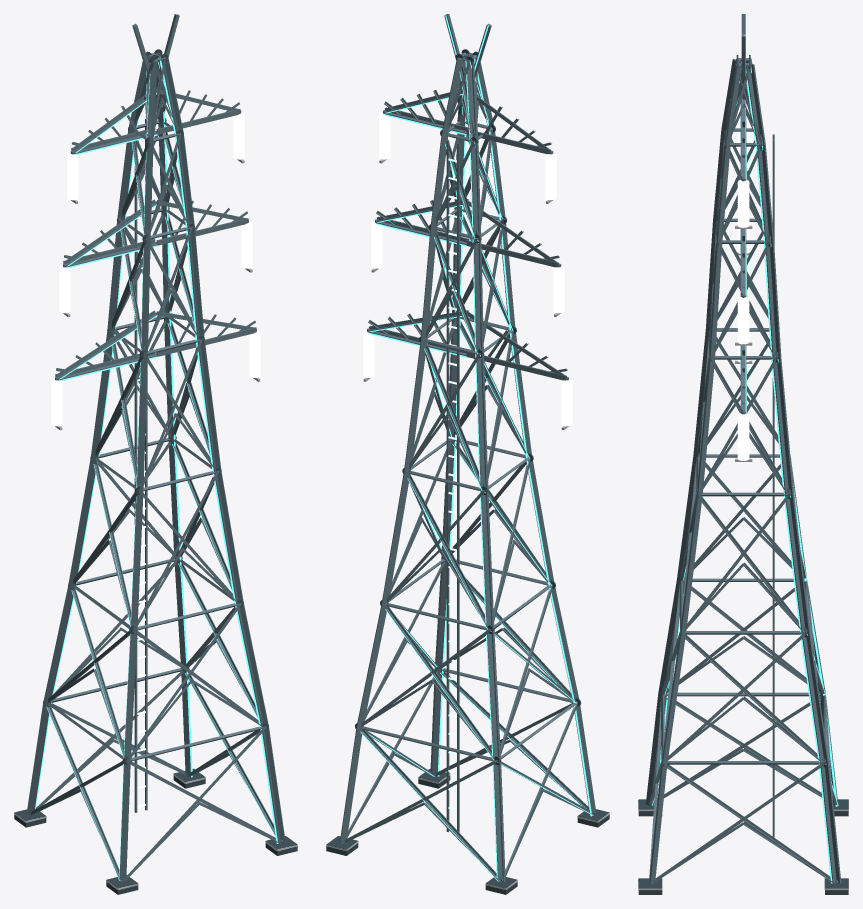
Rendered from transmission_line_segment.glb.
3 renders of one model, left to right at view 1: azimuth 30°, elevation 25°; view 2: azimuth 150°, elevation 25°; view 3: azimuth 270°, elevation 25°, orthographic.
Parts seen in each view (by area): view 1: transmission_line_segment_graphite_light, transmission_line_segment_edge, transmission_line_segment_white, transmission_line_segment_graphite; view 2: transmission_line_segment_graphite_light, transmission_line_segment_edge, transmission_line_segment_white, transmission_line_segment_graphite; view 3: transmission_line_segment_graphite_light, transmission_line_segment_edge, transmission_line_segment_white, transmission_line_segment_graphite, transmission_line_segment_status.
Part boxes in pixels (left/top/right/bottom): transmission_line_segment_graphite_light: left=26, top=14, right=285, bottom=882; transmission_line_segment_edge: left=35, top=14, right=278, bottom=880; transmission_line_segment_white: left=51, top=112, right=260, bottom=807; transmission_line_segment_graphite: left=14, top=49, right=297, bottom=894; transmission_line_segment_graphite_light: left=339, top=14, right=596, bottom=882; transmission_line_segment_edge: left=360, top=15, right=593, bottom=881; transmission_line_segment_white: left=363, top=112, right=572, bottom=829; transmission_line_segment_graphite: left=326, top=49, right=609, bottom=894; transmission_line_segment_graphite_light: left=645, top=14, right=841, bottom=884; transmission_line_segment_edge: left=652, top=14, right=838, bottom=883; transmission_line_segment_white: left=737, top=104, right=749, bottom=460; transmission_line_segment_graphite: left=638, top=55, right=848, bottom=894; transmission_line_segment_status: left=638, top=225, right=848, bottom=890.
Size of the model in its own units: 11.78 by 44.03 by 10.18.
